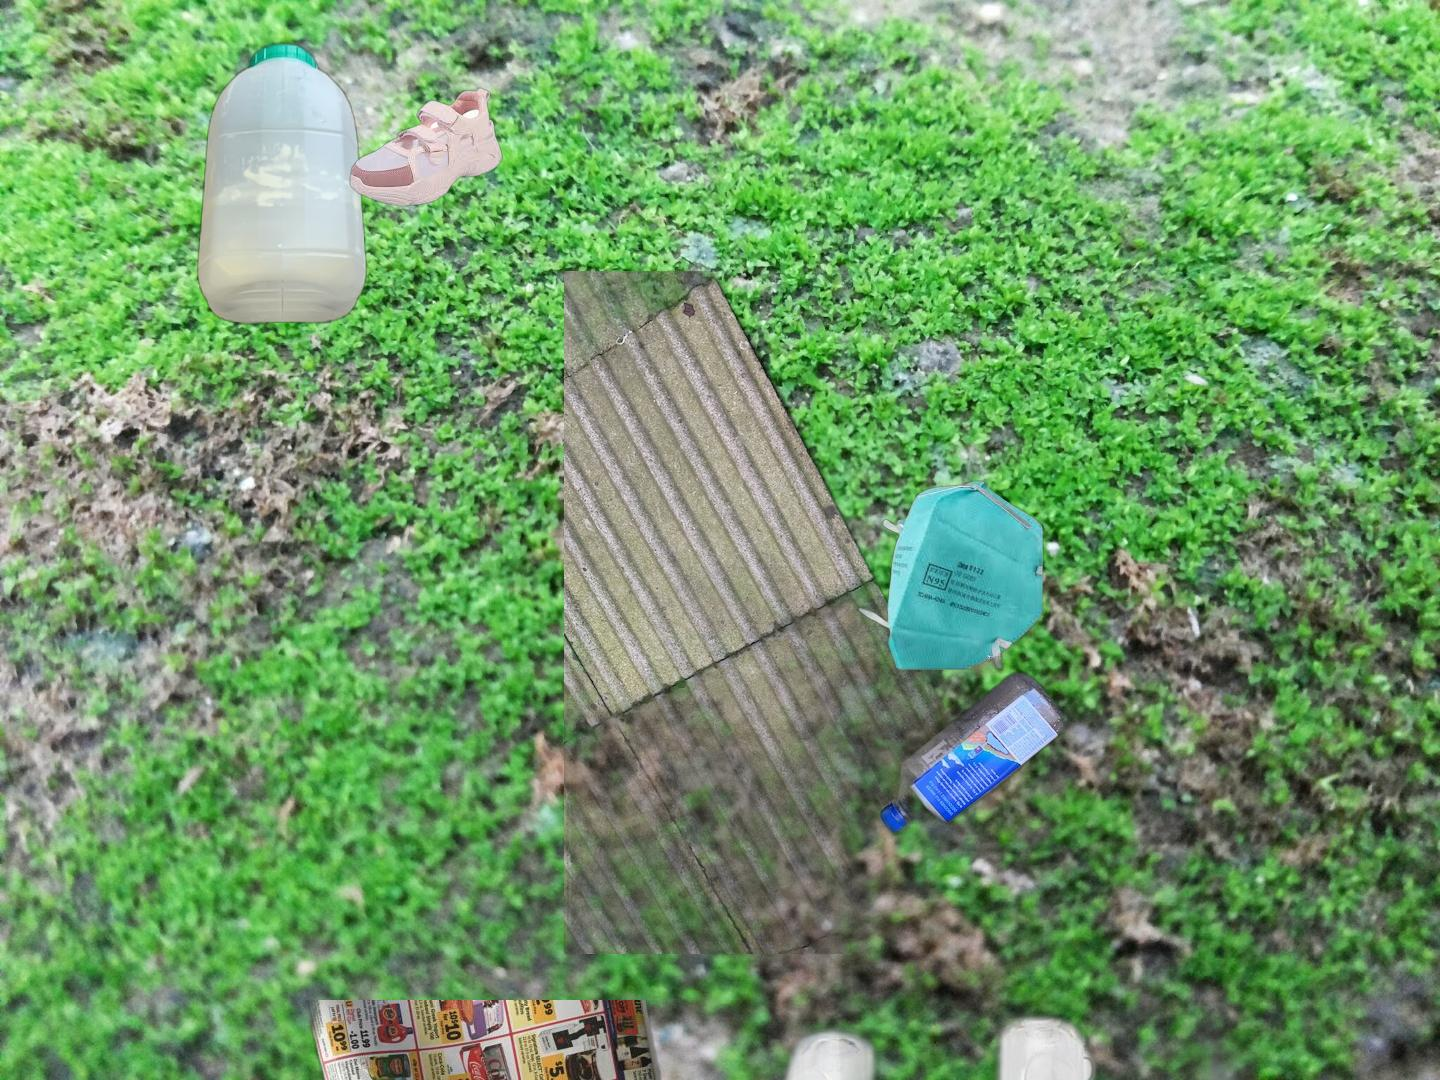paper: (286, 999, 698, 1080)
penholder: (740, 920, 1440, 1080)
plastic-bottles: (564, 271, 1076, 954), (193, 36, 371, 329)
shoes: (347, 85, 505, 209)
trash: (856, 478, 1047, 670)
